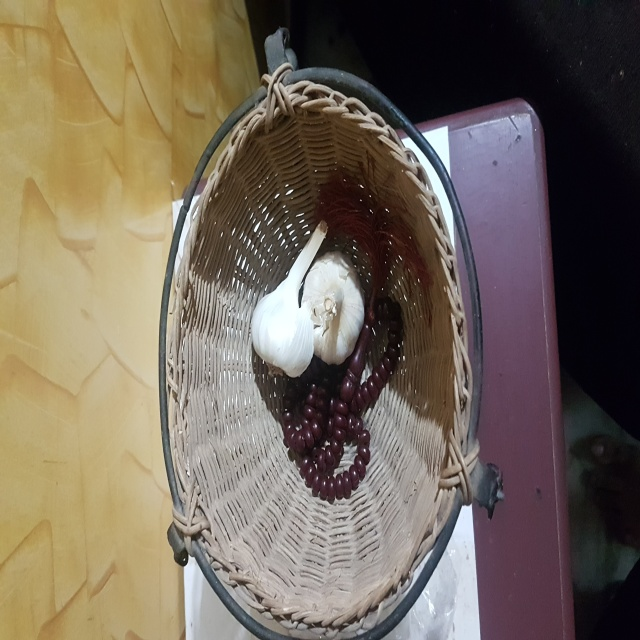garlic: (251, 211, 323, 382), (296, 250, 372, 362)
